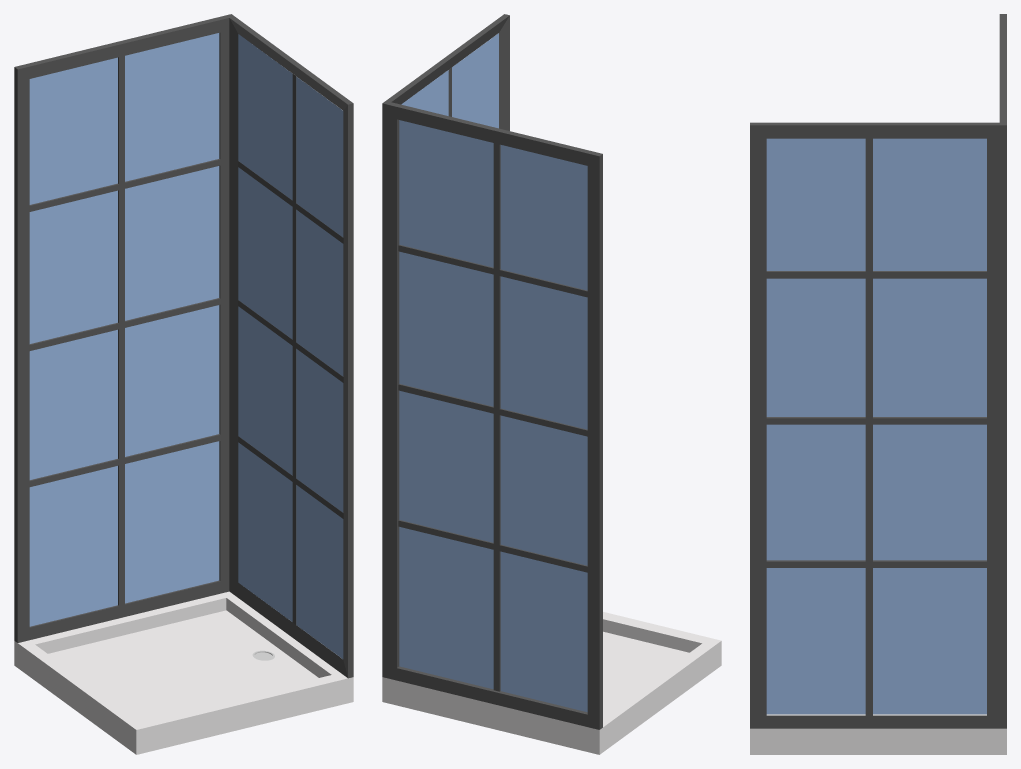
File: corner_shower.gltf
3 views of the same model, side by side, from view 1: azimuth 30°, elevation 25°; view 2: azimuth 150°, elevation 25°; view 3: azimuth 270°, elevation 25° (orthographic). The views are drawn at different scales.
Parts seen in each view (by area): view 1: Mesh9__Translucent_Glass_Blue_1_0, Mesh9_Blacktop_New_0, Mesh9_M_0010_Snow_0, Mesh5_Blacktop_New_0, Mesh2_Blacktop_New_0, Mesh8_Blacktop_New_0, Mesh7_Blacktop_New_0, Mesh6_Blacktop_New_0, Mesh1_Blacktop_New_0, Mesh3_Blacktop_New_0, Mesh4_Blacktop_New_0; view 2: Mesh9__Translucent_Glass_Blue_1_0, Mesh9_Blacktop_New_0, Mesh9_M_0010_Snow_0, Mesh5_Blacktop_New_0, Mesh6_Blacktop_New_0, Mesh8_Blacktop_New_0, Mesh7_Blacktop_New_0; view 3: Mesh9__Translucent_Glass_Blue_1_0, Mesh9_Blacktop_New_0, Mesh9_M_0010_Snow_0, Mesh2_Blacktop_New_0, Mesh3_Blacktop_New_0, Mesh4_Blacktop_New_0, Mesh1_Blacktop_New_0.
Boxes of the visible parts, x1,y1,x2,y2 form: Mesh9__Translucent_Glass_Blue_1_0: [29, 33, 343, 658]; Mesh9_Blacktop_New_0: [14, 14, 353, 678]; Mesh9_M_0010_Snow_0: [14, 591, 353, 754]; Mesh5_Blacktop_New_0: [118, 56, 124, 605]; Mesh2_Blacktop_New_0: [292, 74, 296, 624]; Mesh8_Blacktop_New_0: [29, 298, 220, 350]; Mesh7_Blacktop_New_0: [29, 159, 220, 211]; Mesh6_Blacktop_New_0: [29, 434, 220, 486]; Mesh1_Blacktop_New_0: [238, 436, 343, 518]; Mesh3_Blacktop_New_0: [238, 161, 343, 243]; Mesh4_Blacktop_New_0: [238, 300, 343, 382]; Mesh9__Translucent_Glass_Blue_1_0: [399, 33, 587, 712]; Mesh9_Blacktop_New_0: [382, 14, 602, 729]; Mesh9_M_0010_Snow_0: [382, 612, 721, 754]; Mesh5_Blacktop_New_0: [493, 143, 500, 691]; Mesh6_Blacktop_New_0: [398, 520, 587, 572]; Mesh8_Blacktop_New_0: [398, 384, 587, 436]; Mesh7_Blacktop_New_0: [398, 244, 587, 297]; Mesh9__Translucent_Glass_Blue_1_0: [766, 138, 986, 714]; Mesh9_Blacktop_New_0: [750, 14, 1006, 728]; Mesh9_M_0010_Snow_0: [750, 728, 1006, 754]; Mesh2_Blacktop_New_0: [865, 138, 872, 715]; Mesh3_Blacktop_New_0: [757, 271, 988, 278]; Mesh4_Blacktop_New_0: [757, 417, 988, 424]; Mesh1_Blacktop_New_0: [757, 560, 988, 567].
Size of the model in its own units: 0.9113 by 2.4 by 0.8874.
